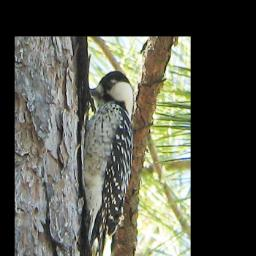Woodpecker: (80, 70, 135, 256)
